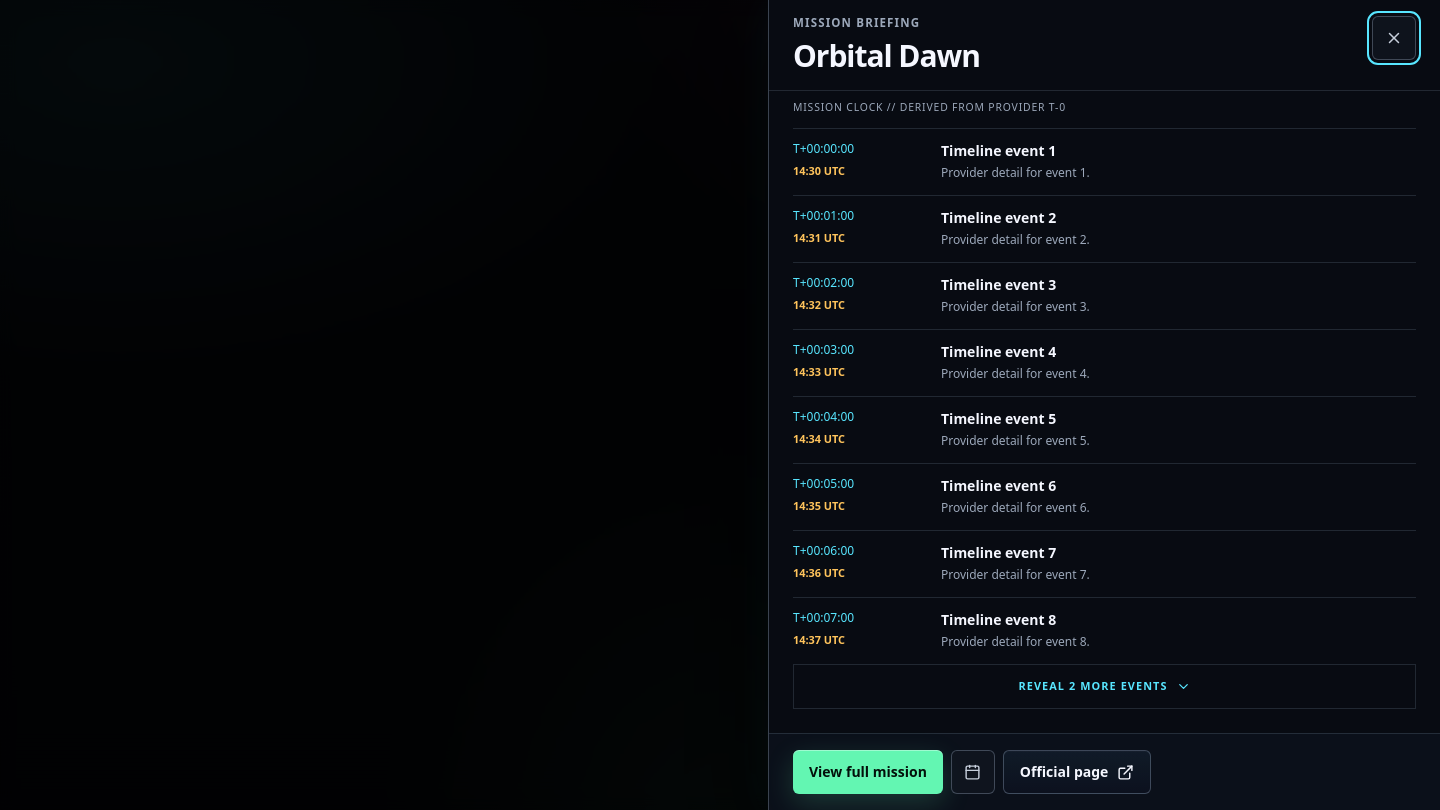
Scenario: LaunchBriefingDrawer › lets users reveal every provider timeline event without losing the compact scan path
(page scrolled)
Check: the text "Timeline event 10" is not shown
Click the button with aria-label "Show all 10 timeline events". click: (1104, 687)
box: [793,665,1416,709]
(page scrolled)
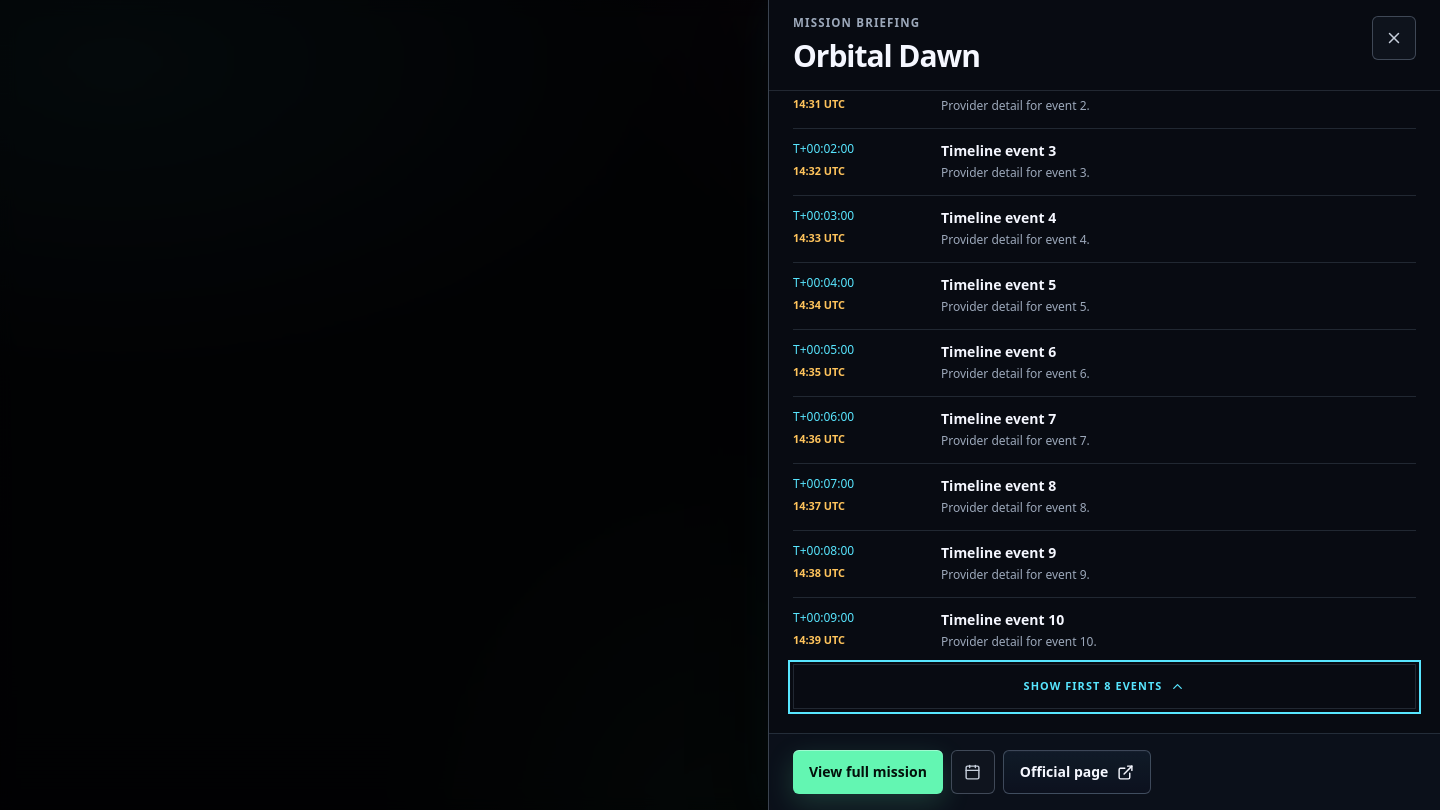
Check: the text "Timeline event 10" is shown, box [941,610,1064,629]
Check: the button named "Show all 10 timeline events" is expanded
Click the button named "Show all 10 timeline events". click: (1104, 687)
box: [793,665,1416,709]
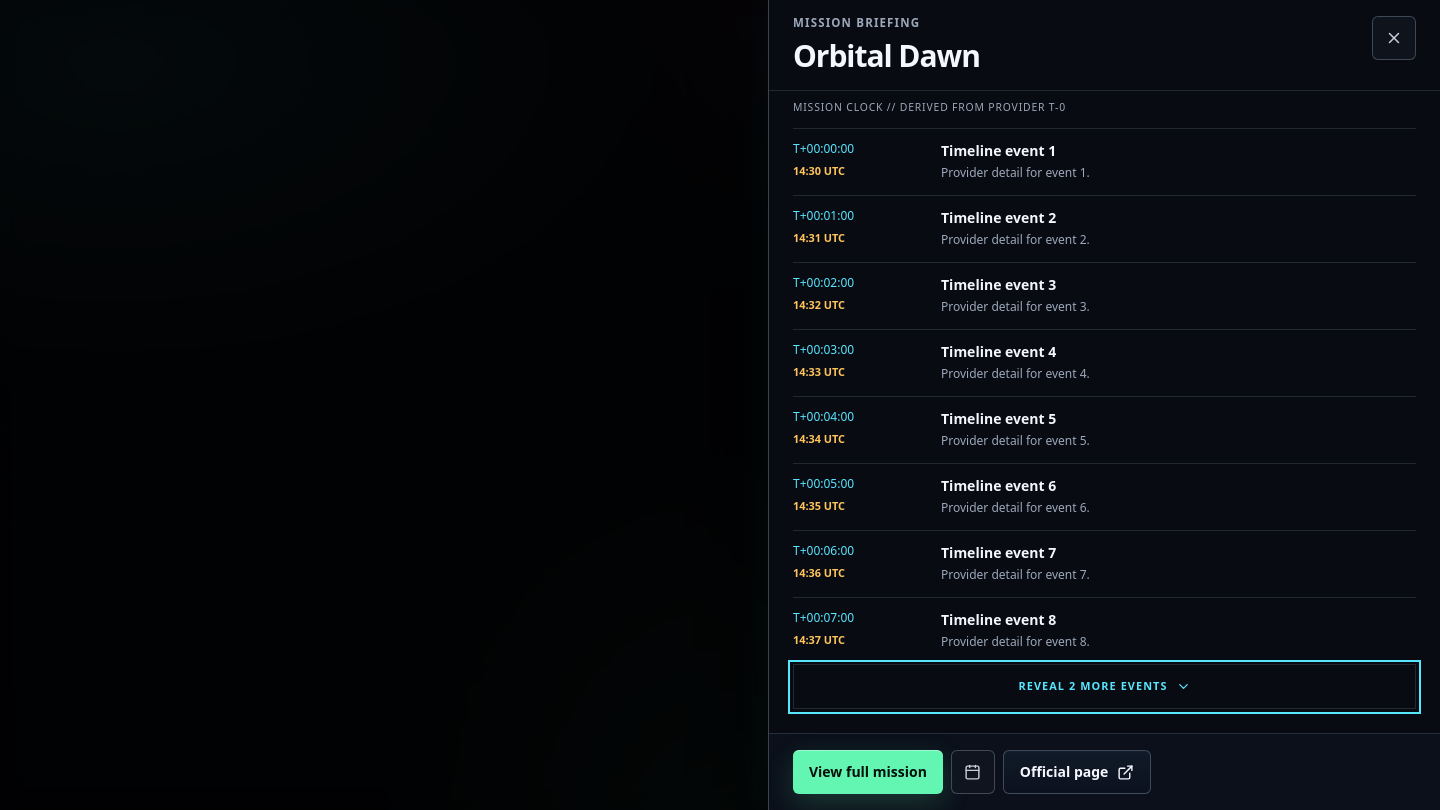
Check: the number of list items is 8
Check: the text "Timeline event 10" is gone
